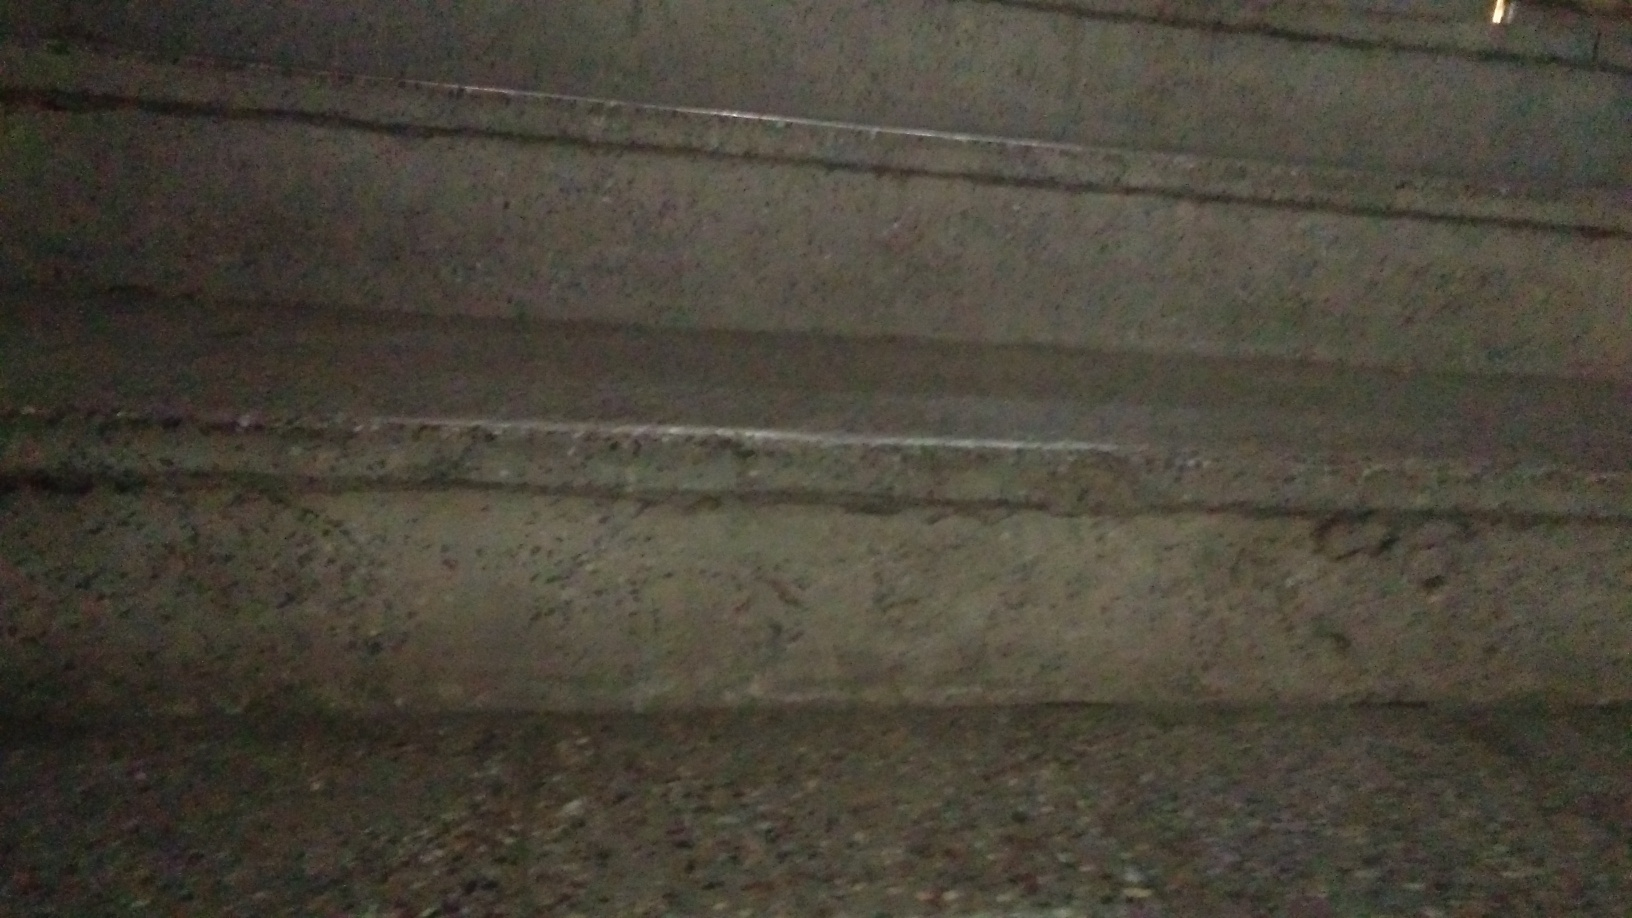stairs_up: (3, 9, 1630, 705)
